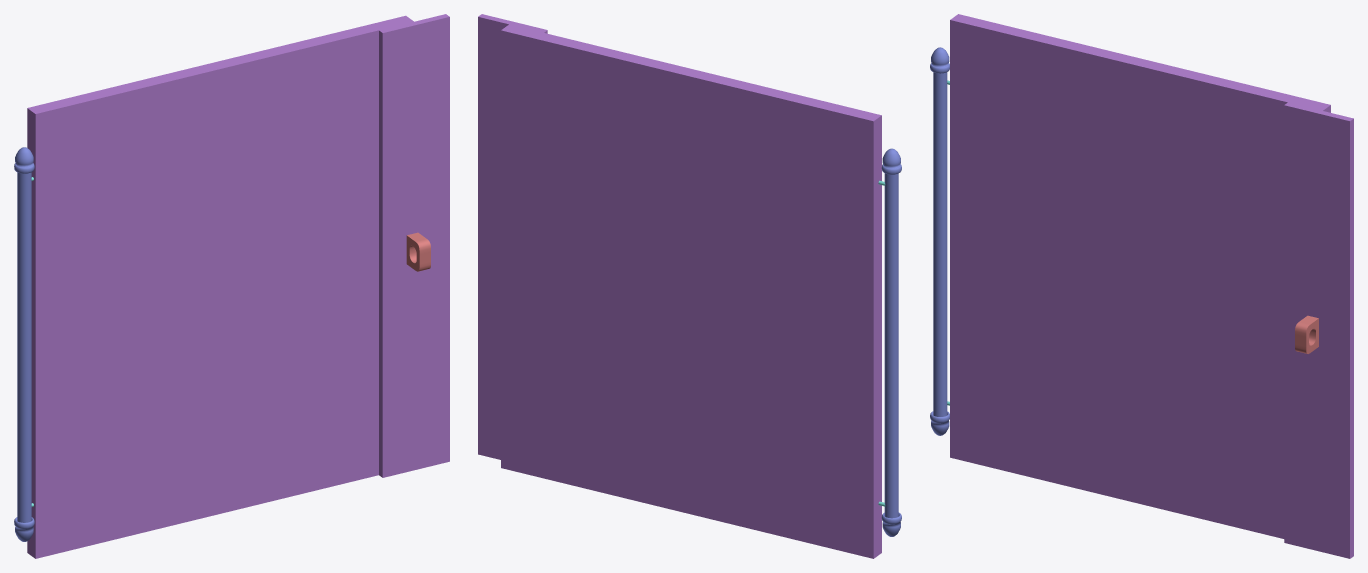
The model's file is porte_com_g.fbx.
3 views of the same model, side by side, from view 1: azimuth 30°, elevation 25°; view 2: azimuth 150°, elevation 25°; view 3: azimuth 330°, elevation 25° (orthographic).
Parts seen in each view (by area): view 1: Object007; view 2: Object007; view 3: Object007.
Boxes of the visible parts, x1,y1,x2,y2 form: Object007: [14, 14, 449, 558]; Object007: [478, 14, 901, 558]; Object007: [930, 14, 1353, 558].
Size of the model in its own units: 0.4481 by 0.4429 by 0.0453.
